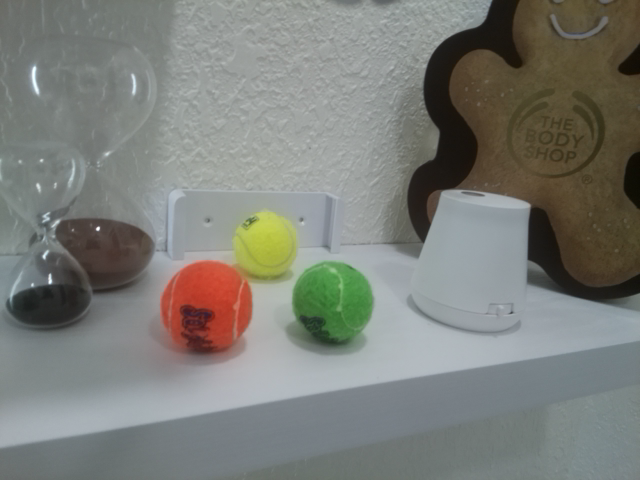green-ball: (292, 260, 374, 347)
orange-ball: (159, 260, 254, 355)
yellow-ball: (232, 210, 298, 280)
